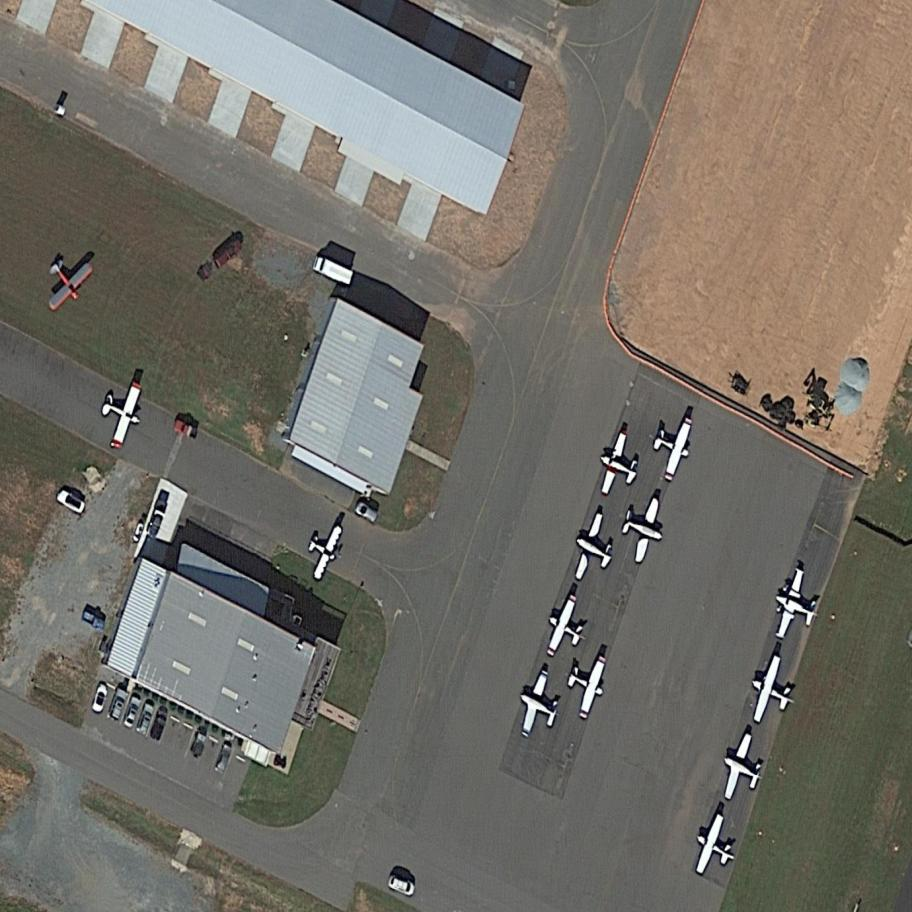large-vehicle: (309, 253, 356, 287)
plane: (763, 562, 833, 653), (27, 242, 105, 319), (561, 504, 628, 593), (610, 484, 676, 572), (741, 648, 806, 737), (88, 371, 153, 456), (712, 726, 776, 812), (533, 585, 596, 669), (506, 662, 569, 746), (641, 405, 703, 489), (556, 642, 616, 725), (589, 424, 650, 505), (686, 807, 748, 886), (296, 514, 350, 586)
small-vehicle: (209, 237, 247, 273), (54, 488, 89, 517), (385, 872, 420, 899), (77, 606, 109, 633), (171, 415, 203, 442), (88, 681, 112, 716), (105, 688, 129, 722), (120, 695, 143, 730), (147, 708, 170, 743), (135, 703, 156, 738), (212, 743, 234, 776), (353, 500, 381, 524)
